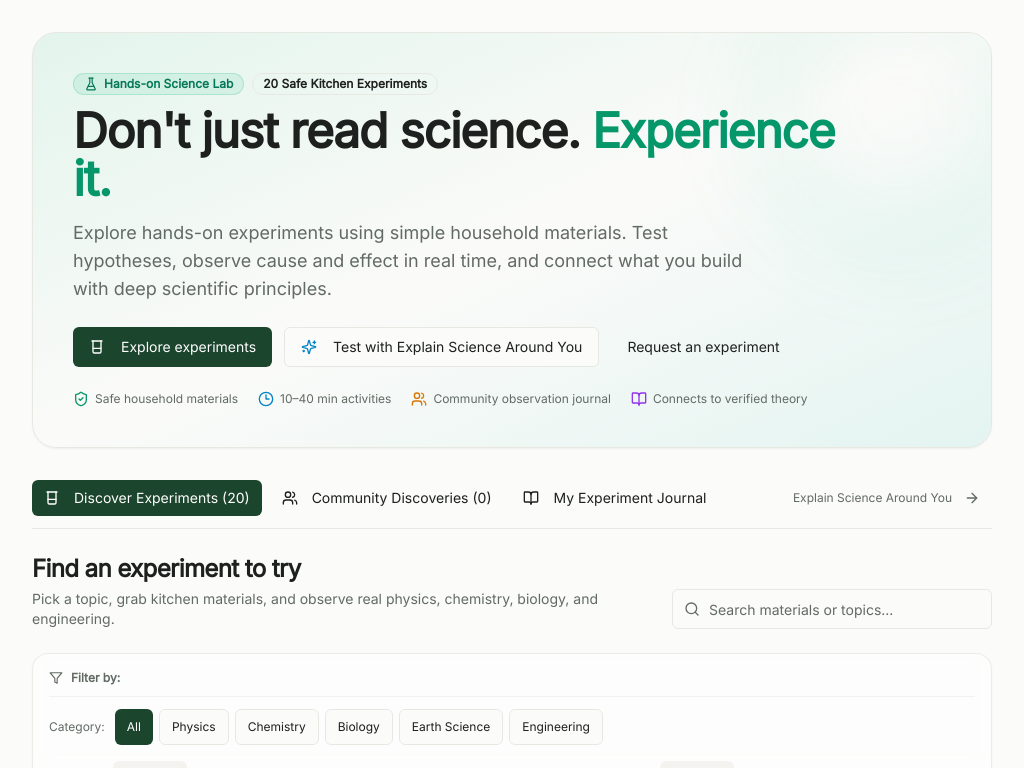
ScienceLab page and experiments section › submits an experiment request idea when requested
Later steps or results of the test are not shown.
Step 1. Click the button "Request an experiment" → (704, 347), box [611,327,796,367]
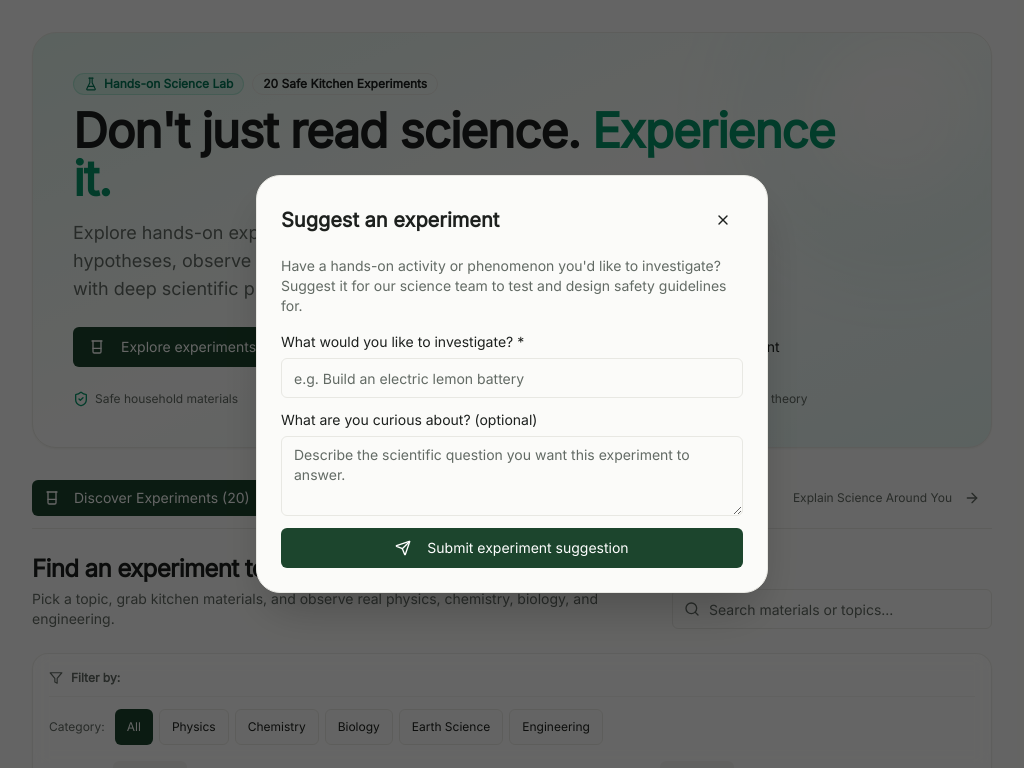
Check: the dialog is shown
Check: the heading "Suggest an experiment" is shown, box [281,206,499,234]
